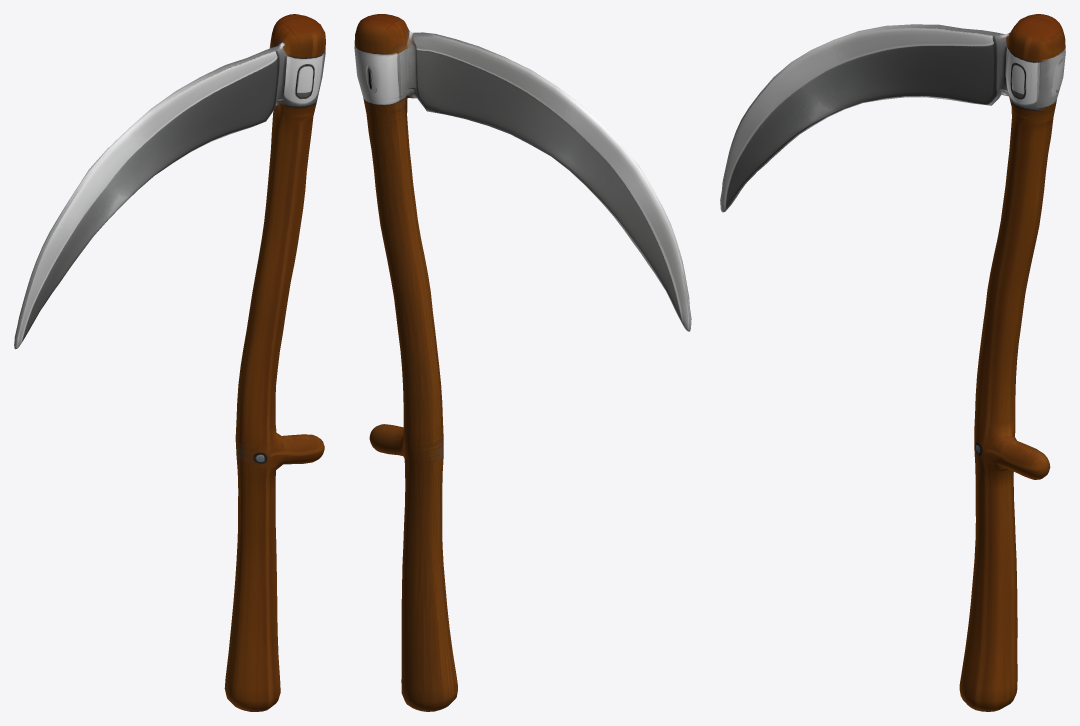
The model's file is Scythe.glb.
The picture shows the model from 3 angles, left to right: view 1: azimuth 30°, elevation 25°; view 2: azimuth 150°, elevation 25°; view 3: azimuth 330°, elevation 25°; orthographic projection. The views are drawn at different scales.
Bounding box in the file's own units: 0.9892 × 2.01 × 0.1754.
Materials: 1 (1 with a texture image).
